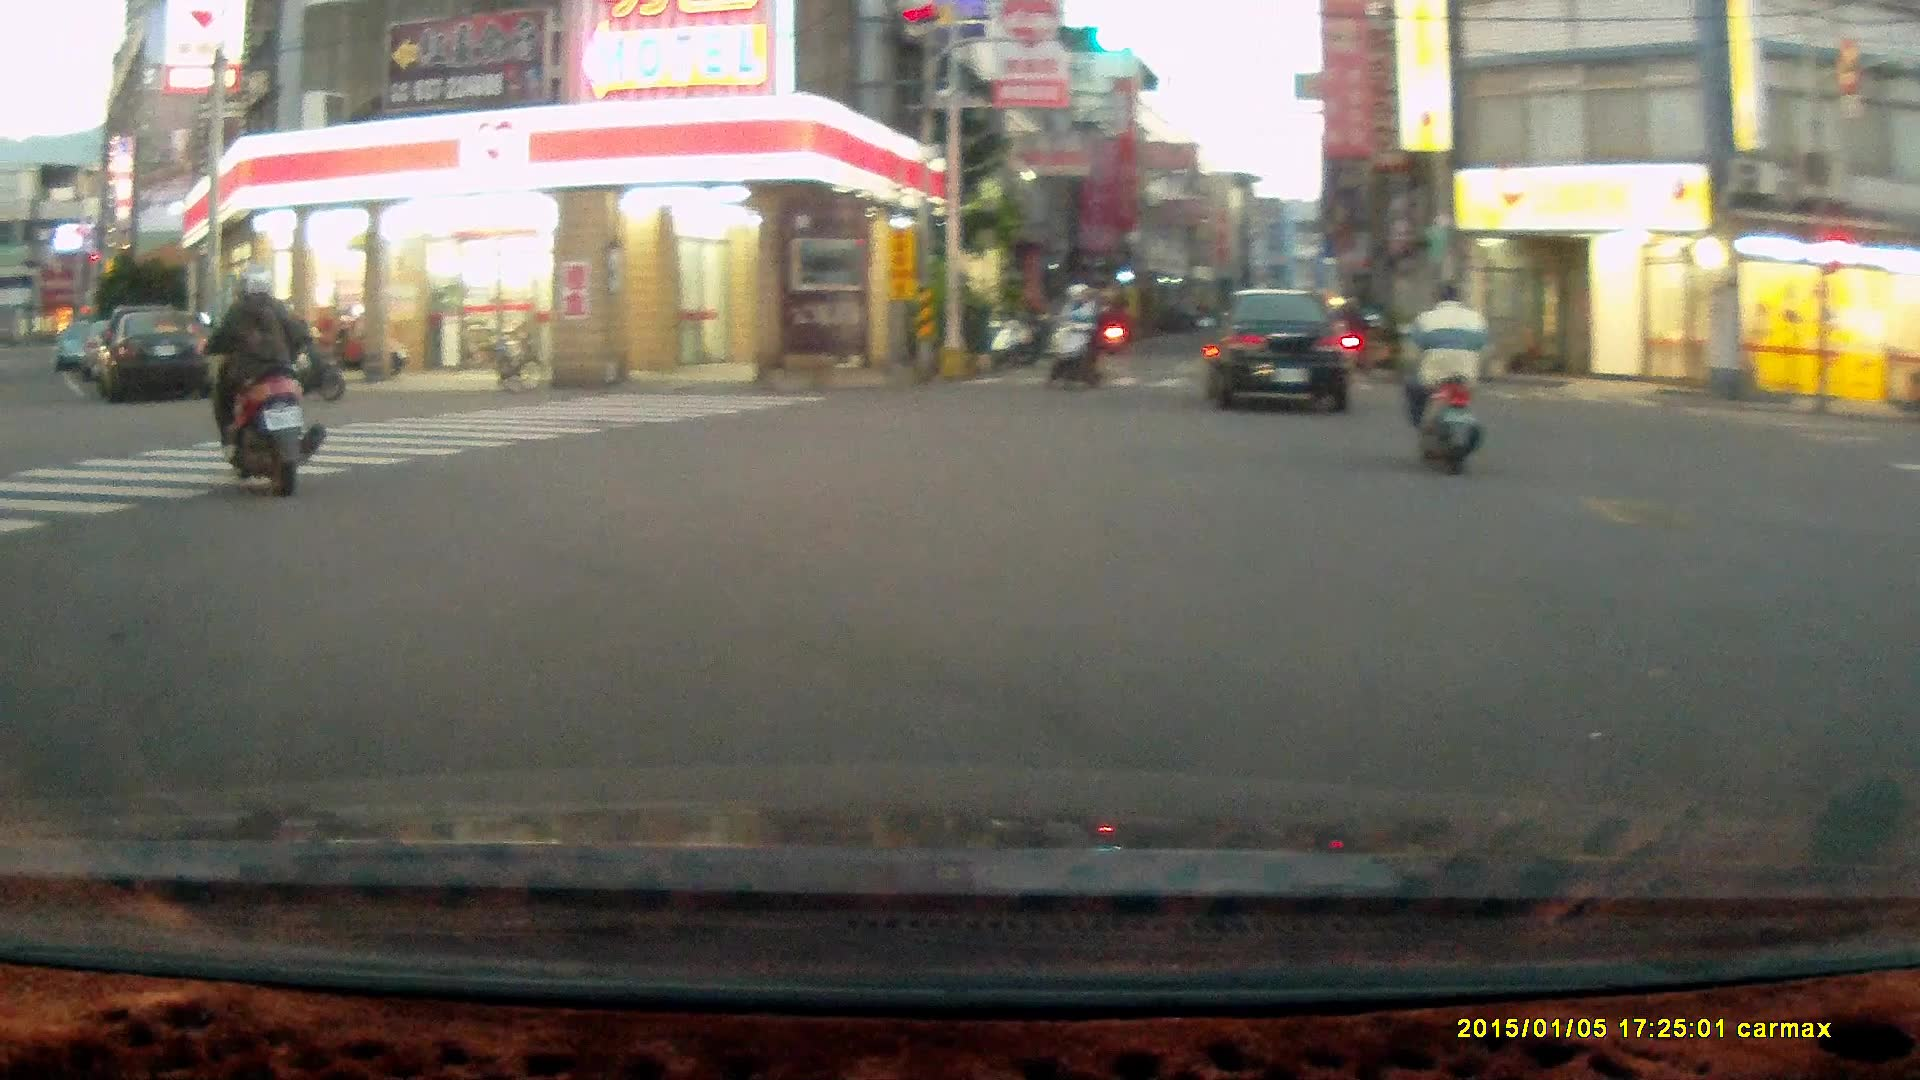rider: (199, 267, 327, 498), (1402, 278, 1494, 477), (1046, 280, 1105, 390)
vehicle: (1209, 288, 1361, 418), (106, 308, 228, 404)
